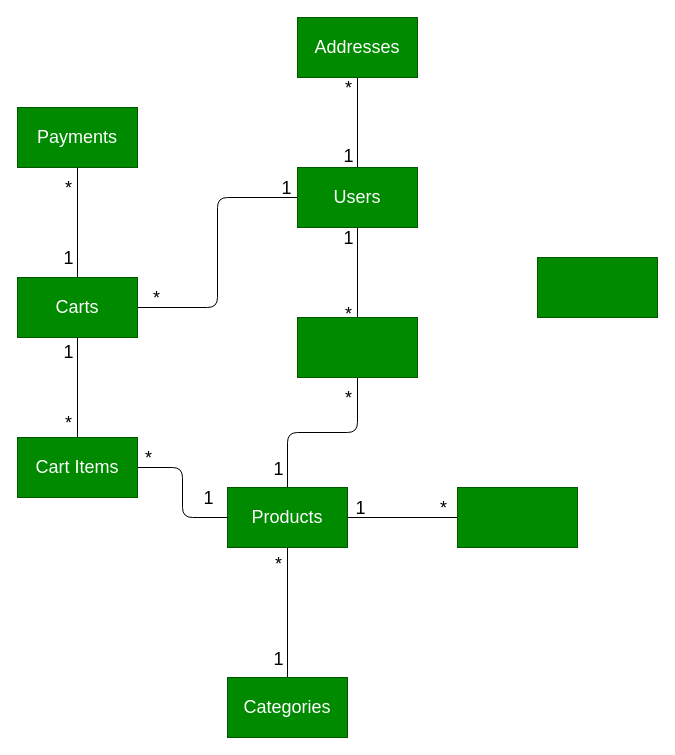
The diagram is 675 pixels wide and 755 high, and some of its shapes have lost their labels. The shapes that lost their labels are listed below. From the top down, each one's box as (x1, y1, x2, y2) in pixels, then its label:
(536, 256, 658, 318): Discounts
(296, 316, 418, 378): Comments
(456, 486, 578, 548): Product Images
